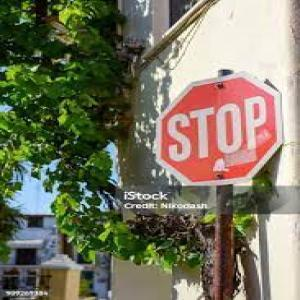STOP: (153, 73, 285, 186)
